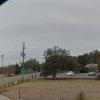Tree: (31, 37, 100, 80)
